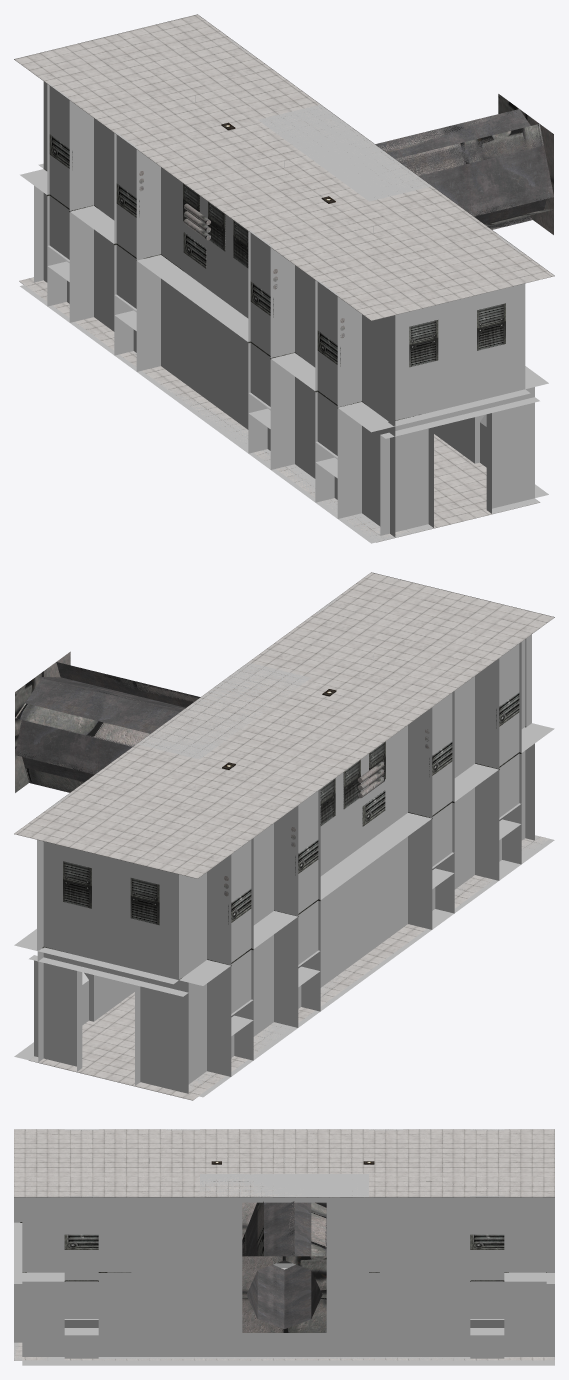
The model's file is scp_room_venthallway.dae.
3 renders of one model, top to bottom at view 1: azimuth 30°, elevation 25°; view 2: azimuth 150°, elevation 25°; view 3: azimuth 270°, elevation 25°, orthographic. The views are drawn at different scales.
Visible parts, largest first — view 1: Scene_Root.004, Scene_Root.003, Scene_Root.008, Scene_Root.005, Scene_Root, Scene_Root.006; view 2: Scene_Root.004, Scene_Root.003, Scene_Root.008, Scene_Root.005, Scene_Root, Scene_Root.006; view 3: Scene_Root.004, Scene_Root.003, Scene_Root.008, Scene_Root.005, Scene_Root.006.
Part boxes in pixels (bbox=[...]): Scene_Root.004: bbox=[20, 39, 548, 543]; Scene_Root.003: bbox=[14, 14, 554, 542]; Scene_Root.008: bbox=[375, 109, 553, 229]; Scene_Root.005: bbox=[139, 94, 553, 337]; Scene_Root: bbox=[183, 183, 505, 367]; Scene_Root.006: bbox=[43, 134, 420, 422]; Scene_Root.004: bbox=[14, 597, 554, 1097]; Scene_Root.003: bbox=[14, 572, 554, 1100]; Scene_Root.008: bbox=[15, 662, 200, 792]; Scene_Root.005: bbox=[15, 651, 429, 896]; Scene_Root: bbox=[63, 741, 385, 925]; Scene_Root.006: bbox=[42, 692, 525, 980]; Scene_Root.004: bbox=[14, 1129, 554, 1365]; Scene_Root.003: bbox=[14, 1129, 554, 1360]; Scene_Root.008: bbox=[242, 1201, 326, 1328]; Scene_Root.005: bbox=[242, 1201, 326, 1332]; Scene_Root.006: bbox=[20, 1222, 546, 1281].
Bounding box in the file's own units: 11.04 × 20.48 × 7.28.
